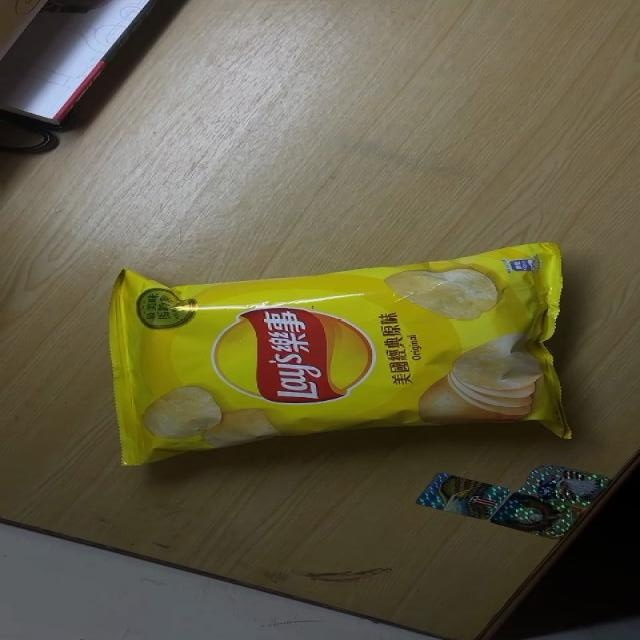Lay-s-original: (107, 240, 579, 467)
